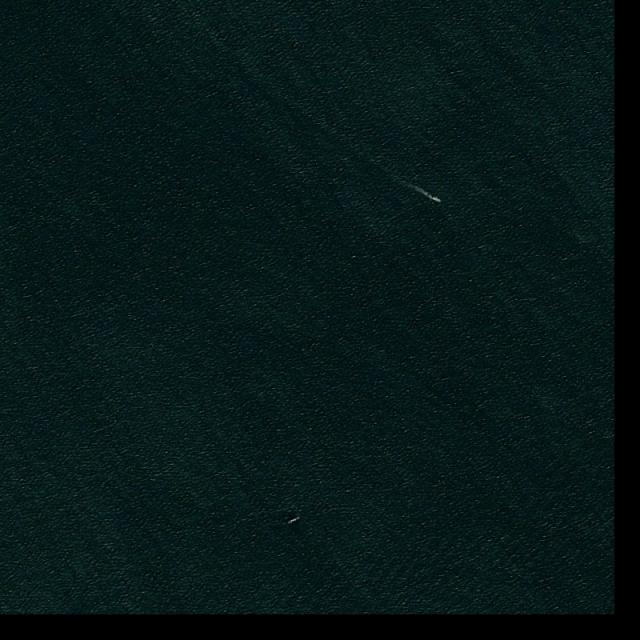ship: (427, 194, 442, 204), (287, 518, 299, 525)
